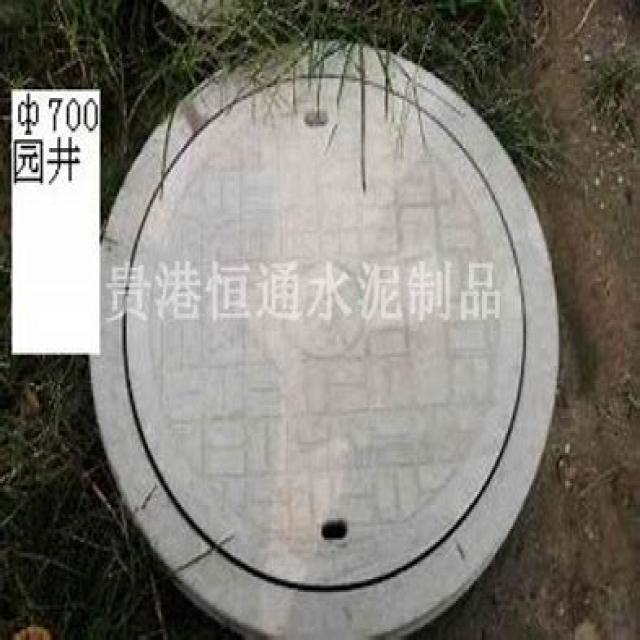manhole: (91, 45, 558, 640)
